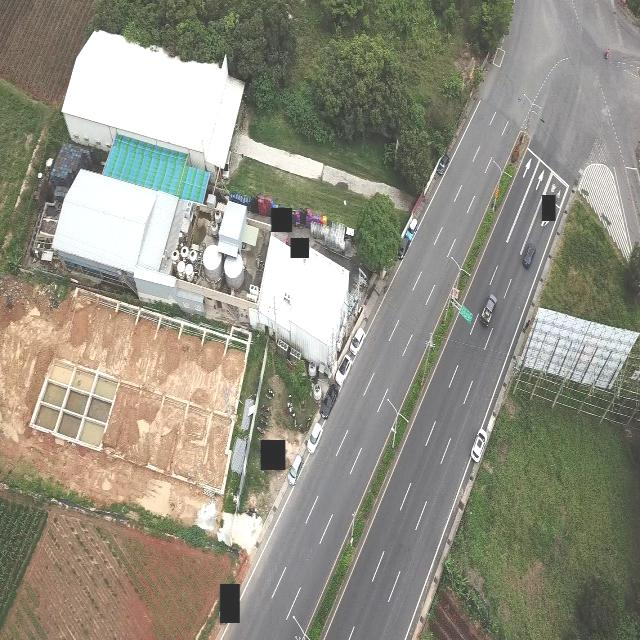car: (470, 427, 488, 462), (320, 384, 337, 420), (349, 325, 367, 355), (306, 420, 322, 452), (286, 453, 302, 484), (480, 294, 494, 326), (336, 354, 352, 382), (402, 216, 418, 244), (522, 243, 536, 267), (435, 153, 449, 176)
